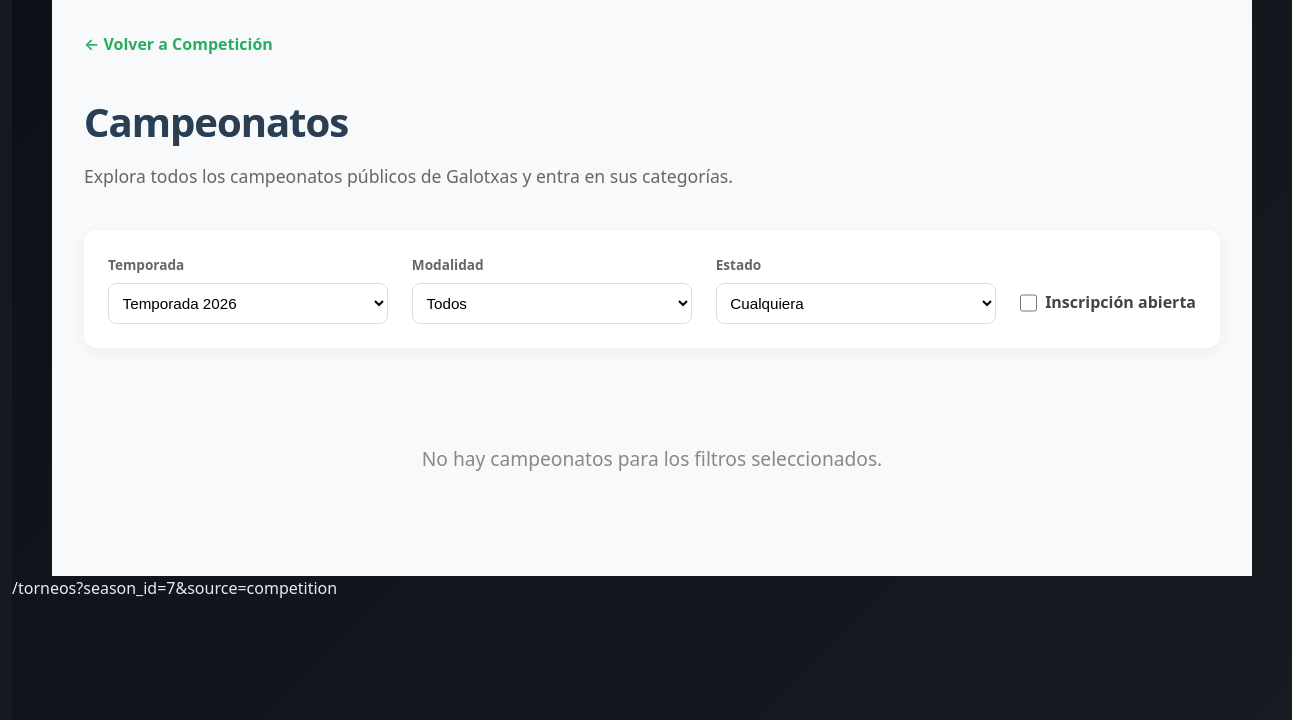
it: TournamentList › synchronizes a season selector change while preserving unrelated query parameters
Select "Temporada 2027" in the dropdown labelled "Temporada" at (248,304), box [108,284,388,324]
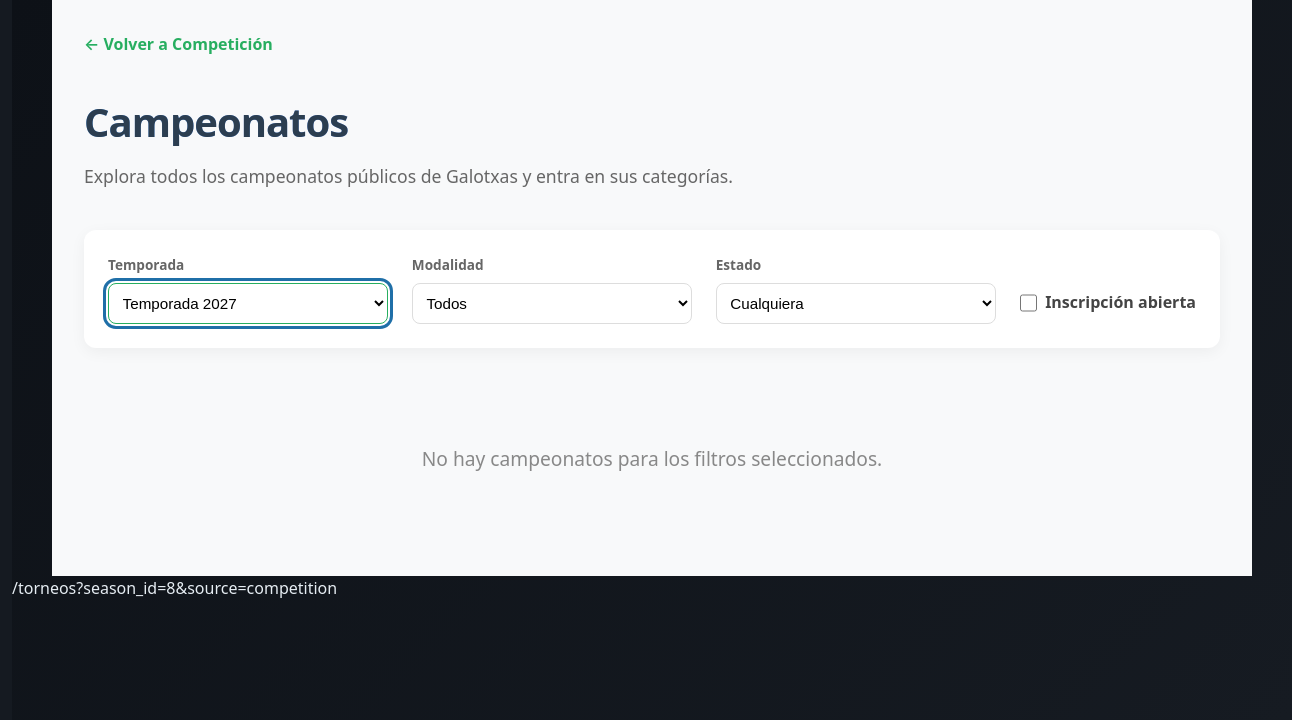
Expected: the text with test id "location" reads "/torneos?season_id=8&source=competition", [12,577,337,599]
